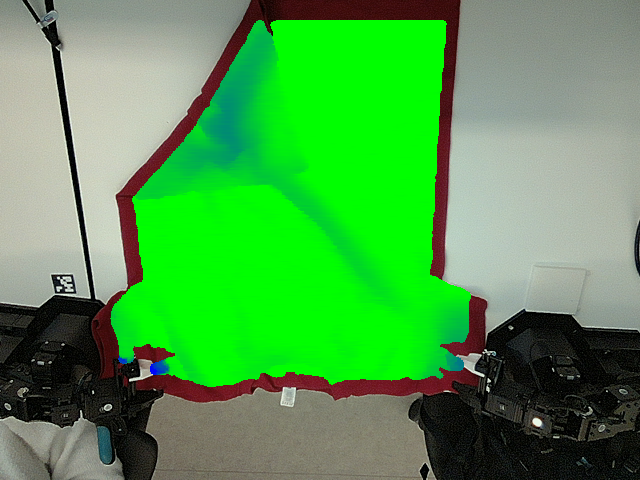V: (273, 128, 315, 181)
